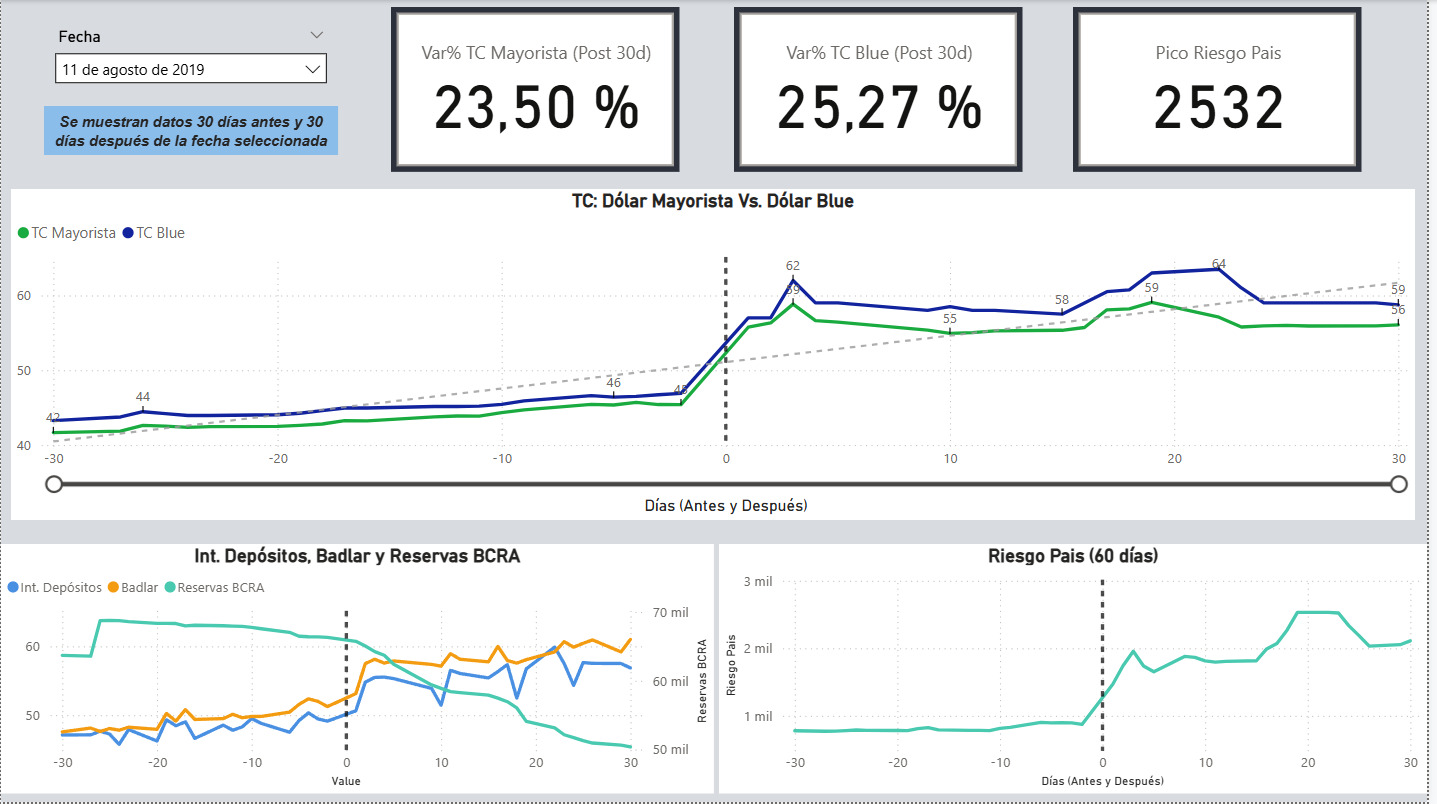

The dashboard page shown, as its layout file describes it:
{"tool":"powerbi","page":{"name":"TC elecciones","canvas":[1280,720],"ordinal":0},"visuals":[{"type":"cardVisual","fields":{"Data":["Medidas Dax.Var% TC Mayorista (Post 30d)"]},"box":[350.1,6.3,259.5,148.1],"z":0},{"type":"lineChart","title":"TC: Dólar Mayorista Vs. Dólar Blue","fields":{"Category":["Dias Relativos.Value"],"Y":["Medidas Dax.TC Mayorista por Dia Relativo","Medidas Dax.TC Blue por Dia Relativo"]},"box":[9,169.7,1260.4,297.2],"z":1000},{"type":"lineChart","title":"Int. Depósitos, Badlar y Reservas BCRA","fields":{"Category":["Dias Relativos.Value"],"Y2":["Medidas Dax.Reservas por Dia Relativo"],"Y":["Medidas Dax.int depositos por Dia Relativo","Medidas Dax.Badlar Dia Relativo"]},"box":[0,488.4,640.1,223.5],"z":2000},{"type":"slicer","fields":{"Values":["Elecciones.Fecha"]},"box":[38.6,19.8,263.9,80.8],"z":3000},{"type":"lineChart","title":"Riesgo Pais (60 días)","fields":{"Category":["Dias Relativos.Value"],"Y":["Medidas Dax.Riesgo Pais por Dia Relativo"]},"box":[644.6,488.4,635.6,223.5],"z":4000},{"type":"cardVisual","fields":{"Data":["Medidas Dax.Var% TC Blue (Post 30d)"]},"box":[658.1,6.3,259.5,148.1],"z":5000},{"type":"cardVisual","title":"Pico Riesgo País","fields":{"Data":["Medidas Dax.Pico Riesgo Pais (Post 30d)"]},"box":[962.4,6.3,259.5,148.1],"z":6000},{"type":"textbox","box":[38.6,95.2,263.9,44],"z":8000}]}

Visuals, with their boxes in screenshot pixels (x1, y1, x2, y2), scaled from the page's 1280x720 canvas onto the 1437x804 screenshot:
cardVisual - Medidas Dax.Var% TC Mayorista (Post 30d): 393/7/684/172
"TC: Dólar Mayorista Vs. Dólar Blue" lineChart: 10/189/1425/521
"Int. Depósitos, Badlar y Reservas BCRA" lineChart: 0/545/719/795
slicer - Elecciones.Fecha: 43/22/340/112
"Riesgo Pais (60 días)" lineChart: 724/545/1436/795
cardVisual - Medidas Dax.Var% TC Blue (Post 30d): 739/7/1030/172
"Pico Riesgo País" cardVisual: 1080/7/1372/172
textbox: 43/106/340/155
